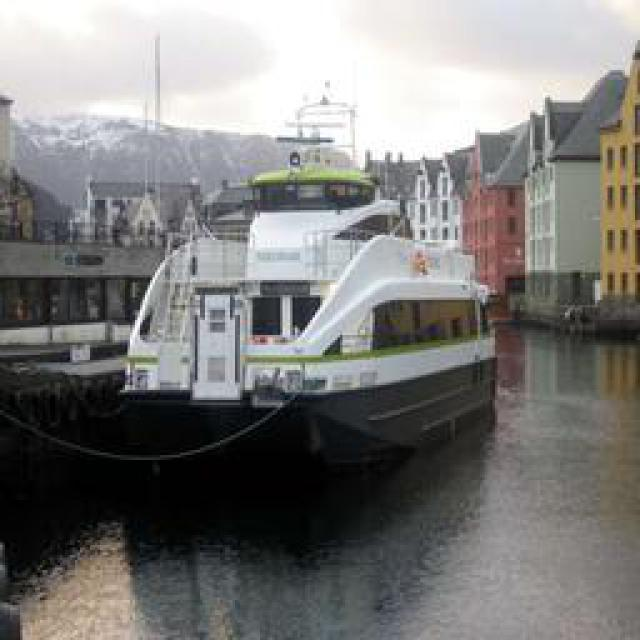Ship: (144, 217, 499, 467)
